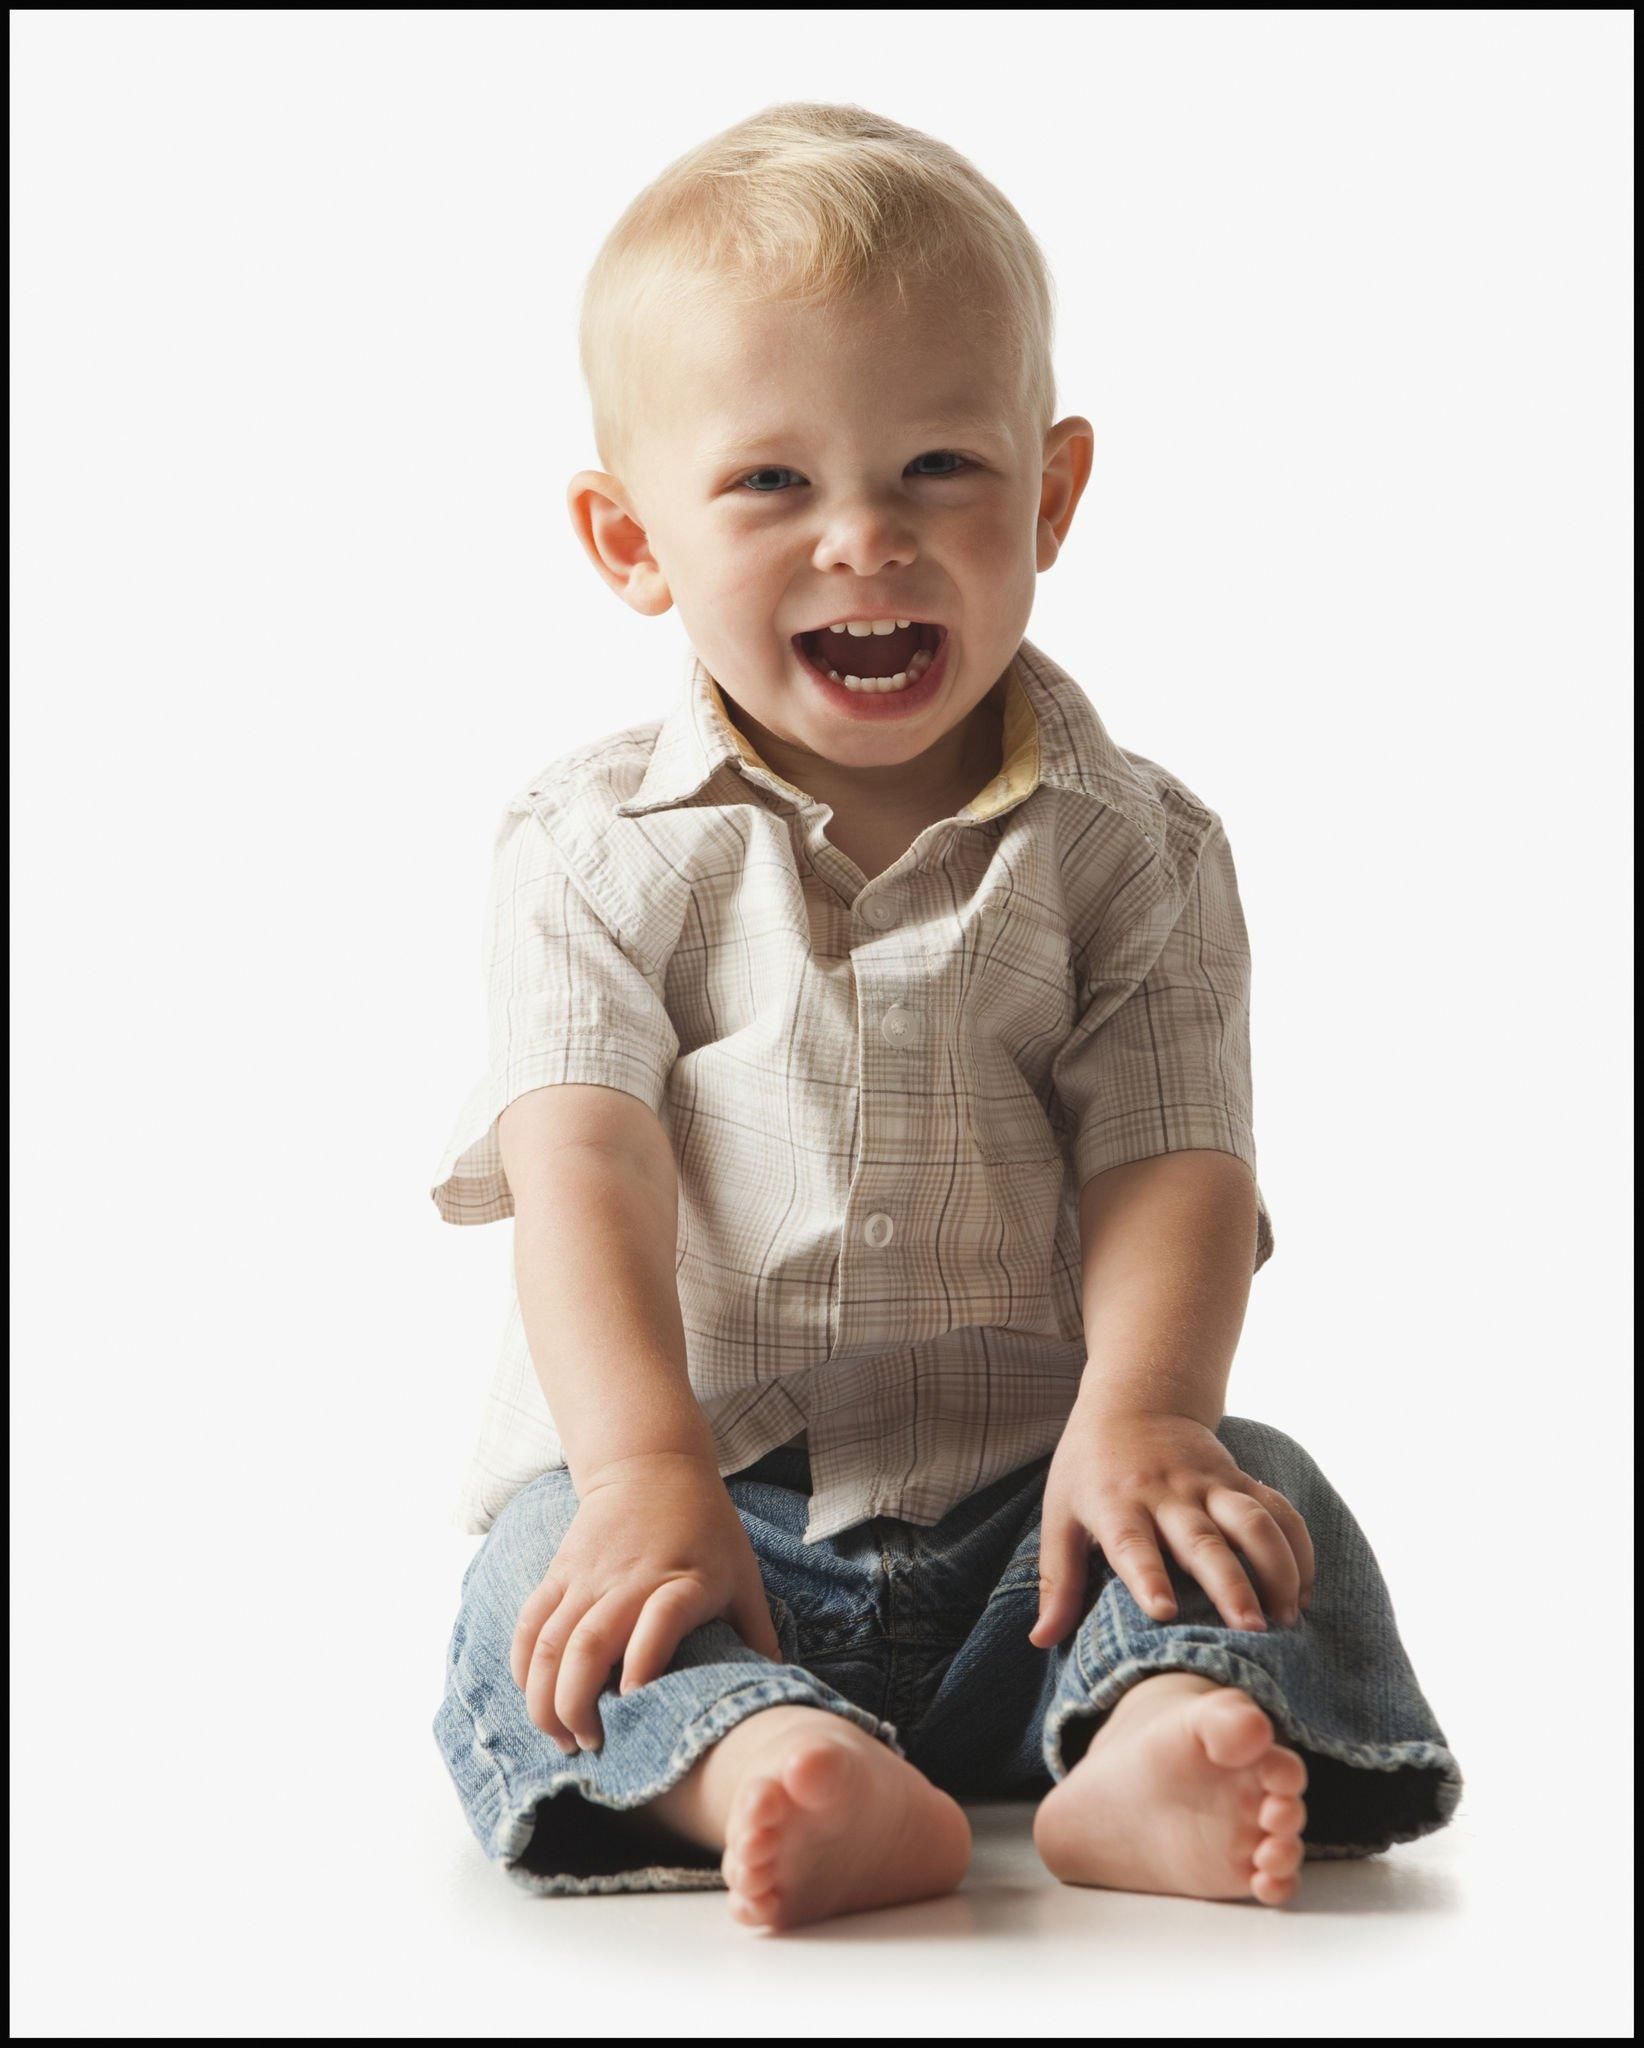Healthy: (567, 211, 1156, 822)
